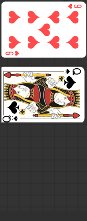9H: (67, 2, 83, 10)
